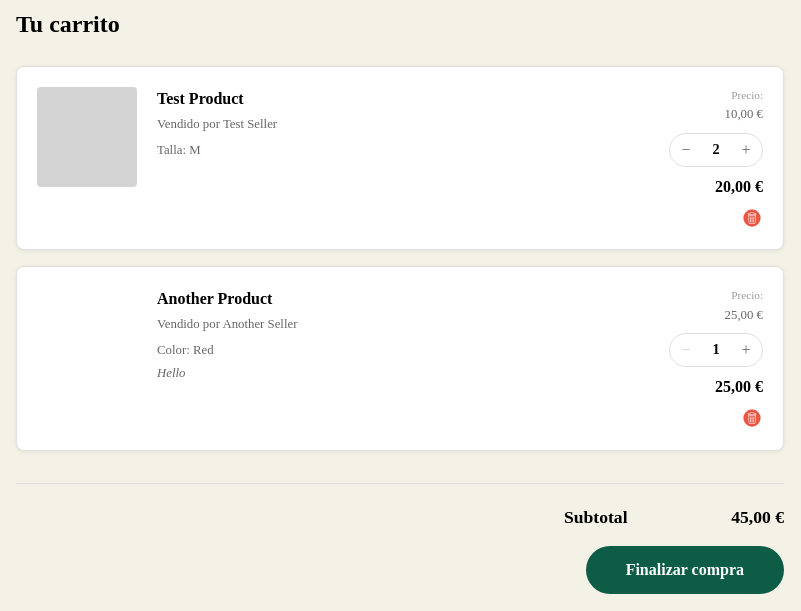
Scenario: CartView › clicking remove sends DELETE and removes the row
Step 1. Click the button named "Eliminar" below "20,00 €" → point(752, 218), box [740,207,763,229]
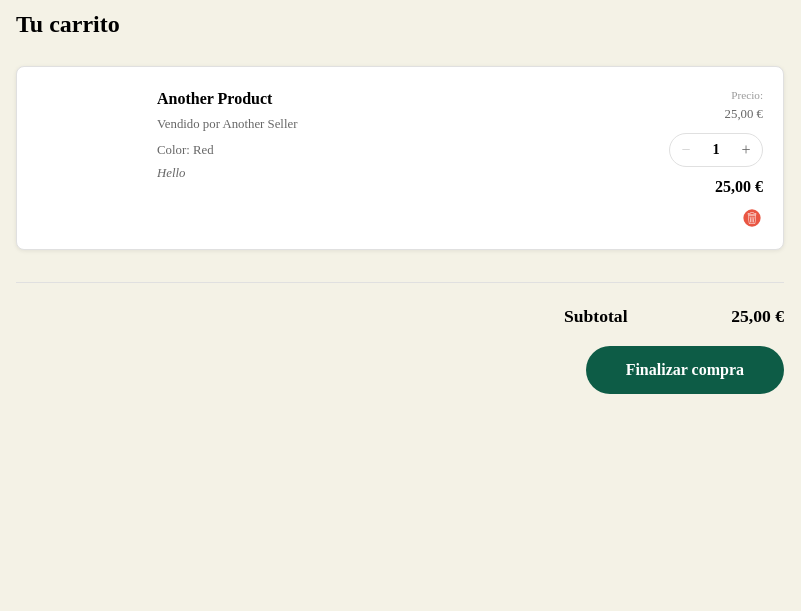
Expected: the text "Another Product" is shown, [157,90,272,107]
Expected: the text "Test Product" is gone
